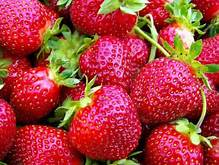Fresa: (68, 83, 144, 164), (130, 51, 207, 129), (70, 27, 154, 95), (1, 1, 65, 59), (8, 119, 87, 165), (7, 61, 64, 124), (143, 116, 210, 165)
